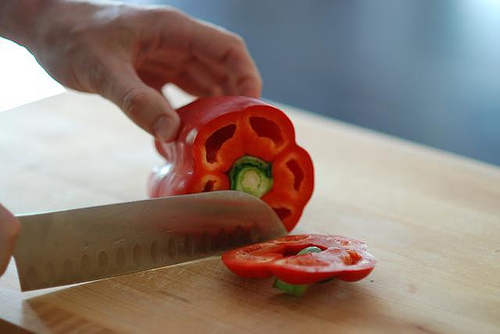capsicum: (149, 91, 315, 236), (220, 235, 379, 293)
